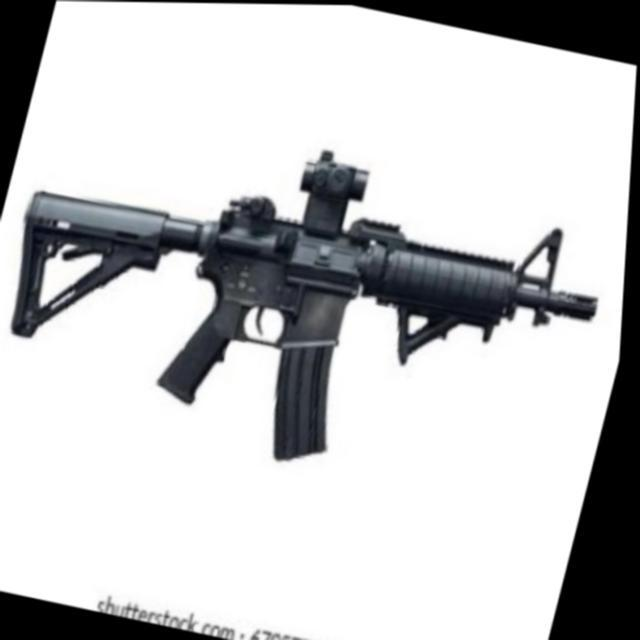weapon: (0, 90, 630, 516)
